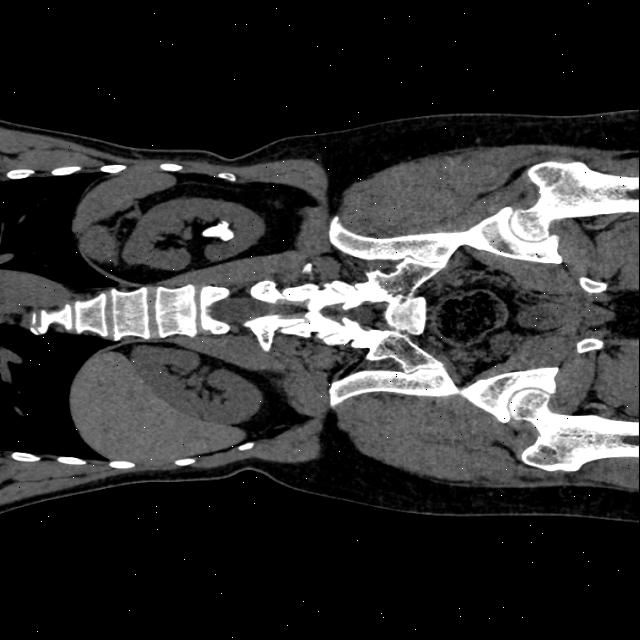kidneystone: (201, 220, 234, 240)
